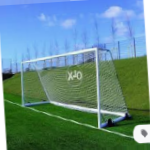goals: (20, 46, 131, 129)
